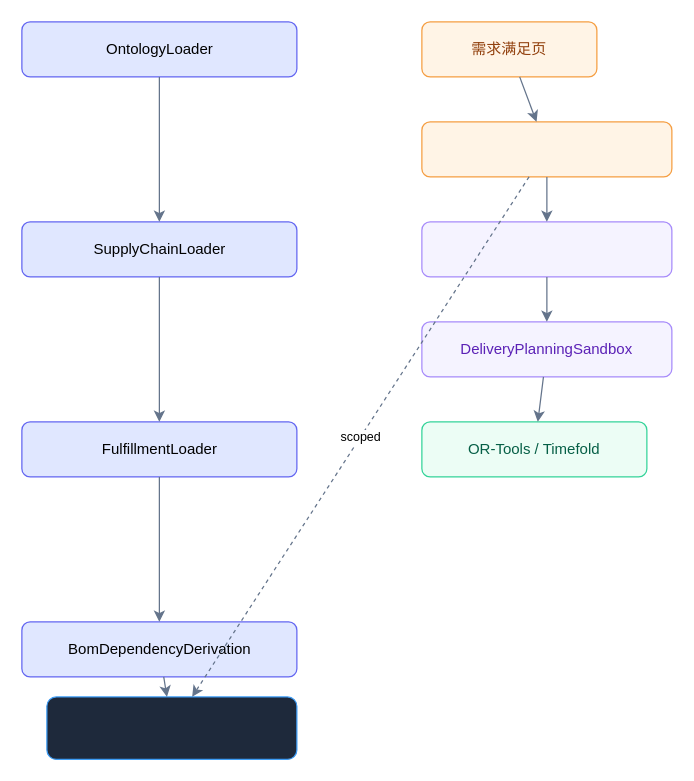
Some shapes in this 694 by 781 pixel diagram are drawn without their labels. Here are the shapes that lost their labels. From the top down, the centre of each, then its label:
At pixel 546 149: "CustomerOrderLineDelivery".
At pixel 546 249: "OrderFulfillmentChainDto".
At pixel 171 727: "OntologyGraph".
